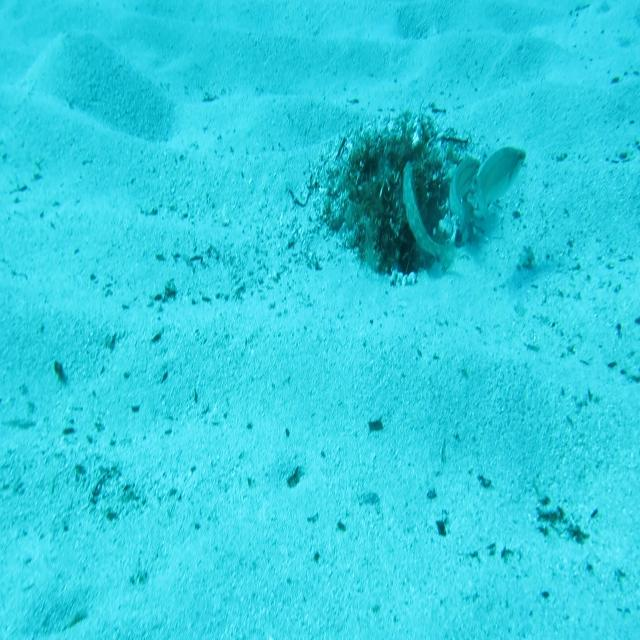FAN: (401, 158, 459, 279)
core_nest: (372, 148, 418, 185)
female: (476, 144, 526, 240), (448, 156, 482, 261)
nest: (305, 102, 474, 289)
